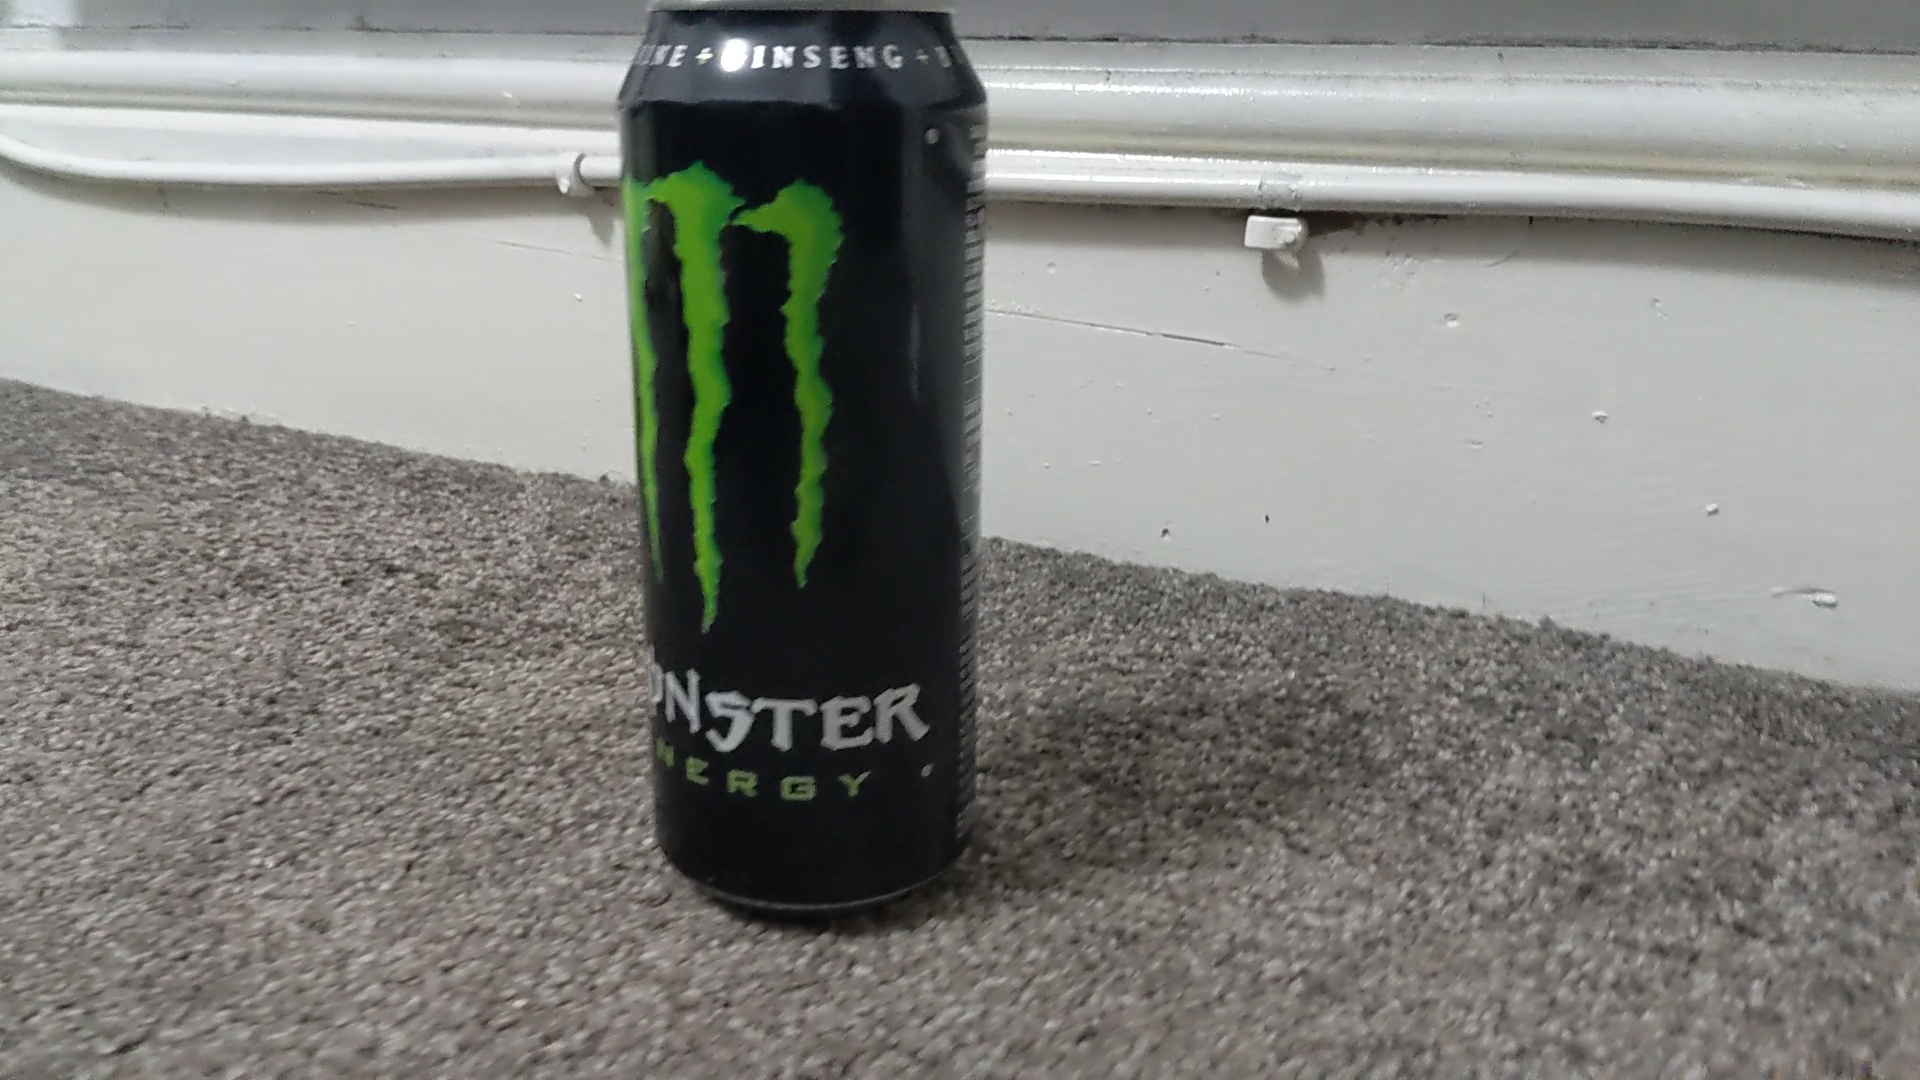monster-original: (613, 1, 989, 916)
